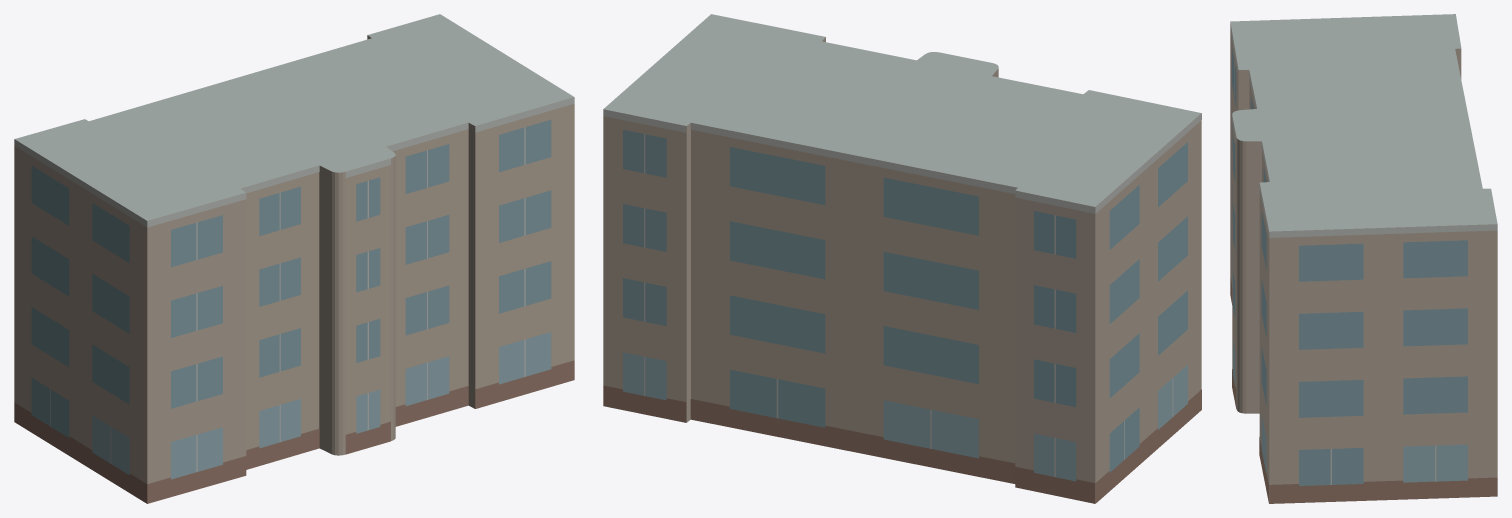
File: survey-upis-32955475.glb
The picture shows the model from 3 angles, left to right: view 1: azimuth 30°, elevation 25°; view 2: azimuth 150°, elevation 25°; view 3: azimuth 270°, elevation 25°; orthographic projection. The views are drawn at different scales.
Visible parts, largest first — view 1: survey-upis-32955475.tmp; view 2: survey-upis-32955475.tmp; view 3: survey-upis-32955475.tmp.
Boxes of the visible parts, x1,y1,x2,y2 form: survey-upis-32955475.tmp: (14,14,574,503); survey-upis-32955475.tmp: (603,14,1201,503); survey-upis-32955475.tmp: (1230,14,1497,503).
Size of the model in its own units: 18 by 10.5 by 9.35.
